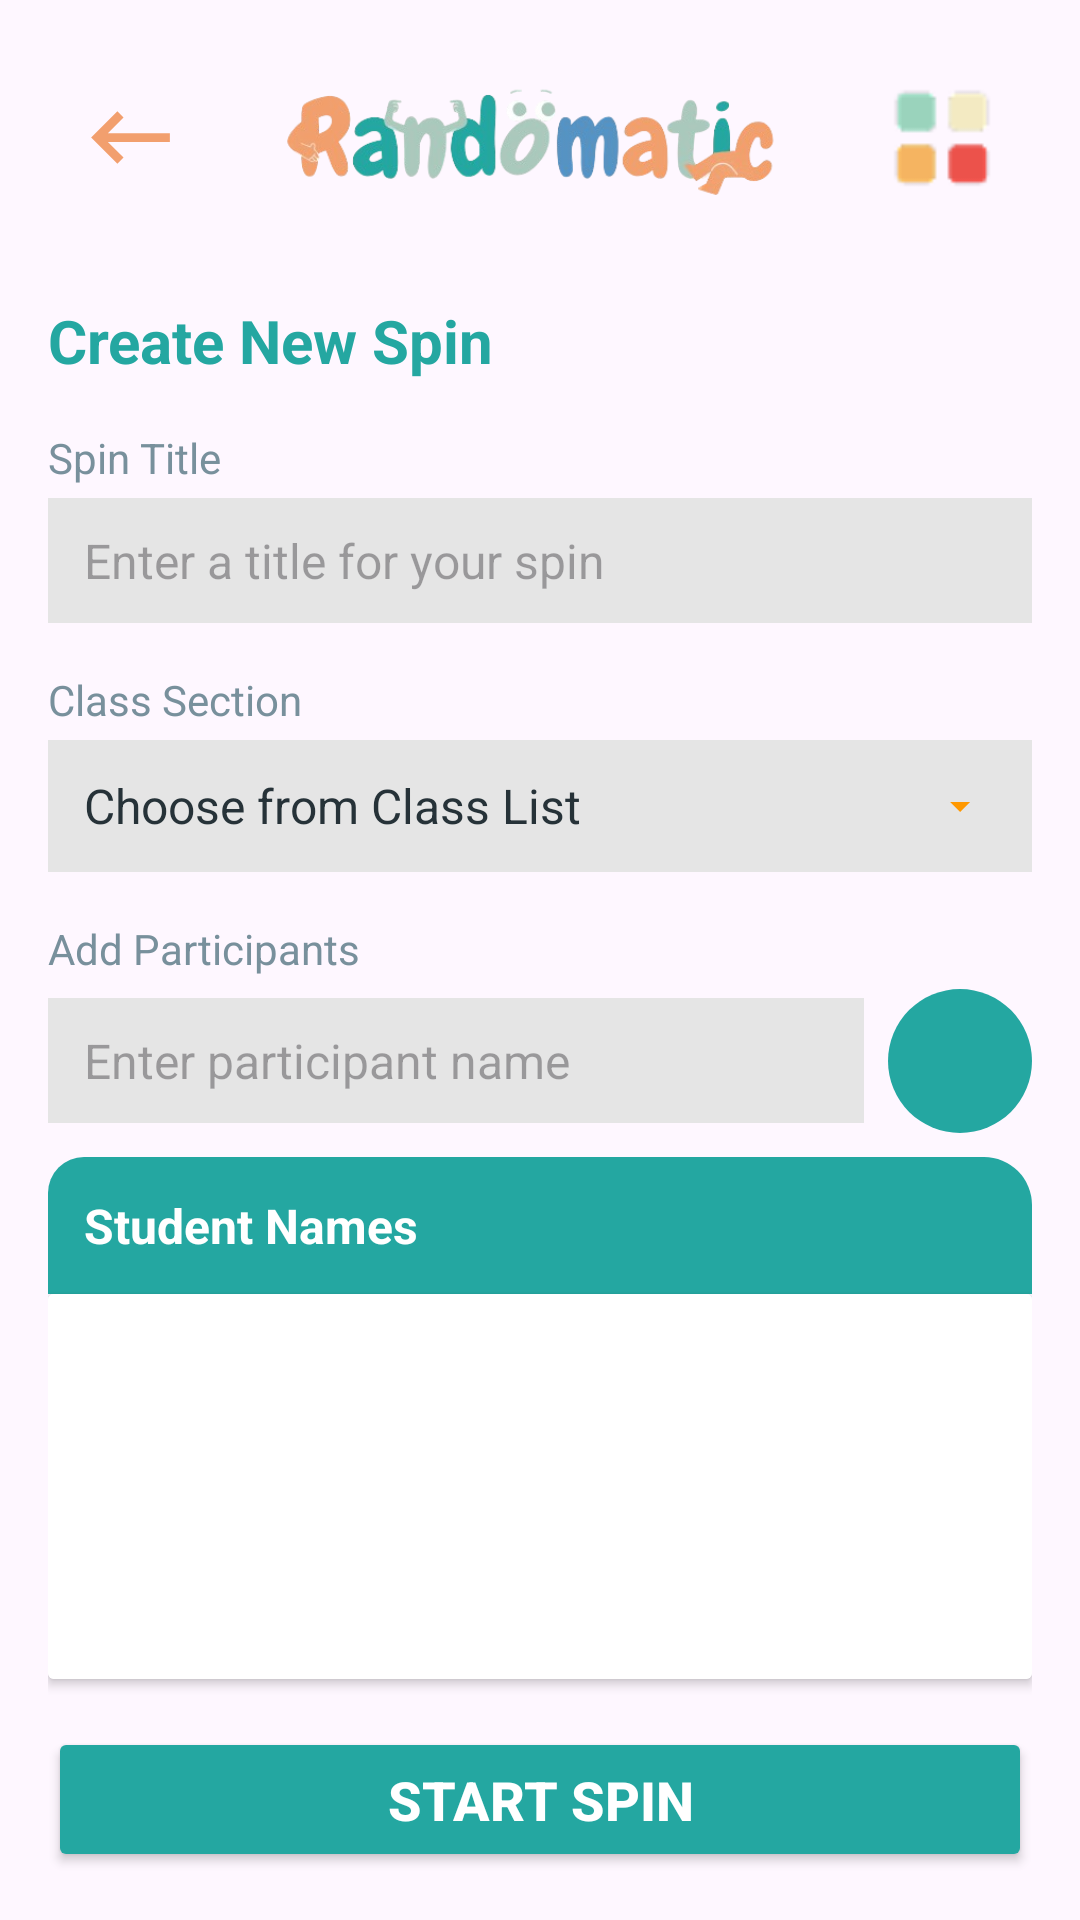

Named icons in this screenshot (1080w x 1920h) and their centers, (x=x, y=y):
keyboard backspace: (x=130, y=137)
